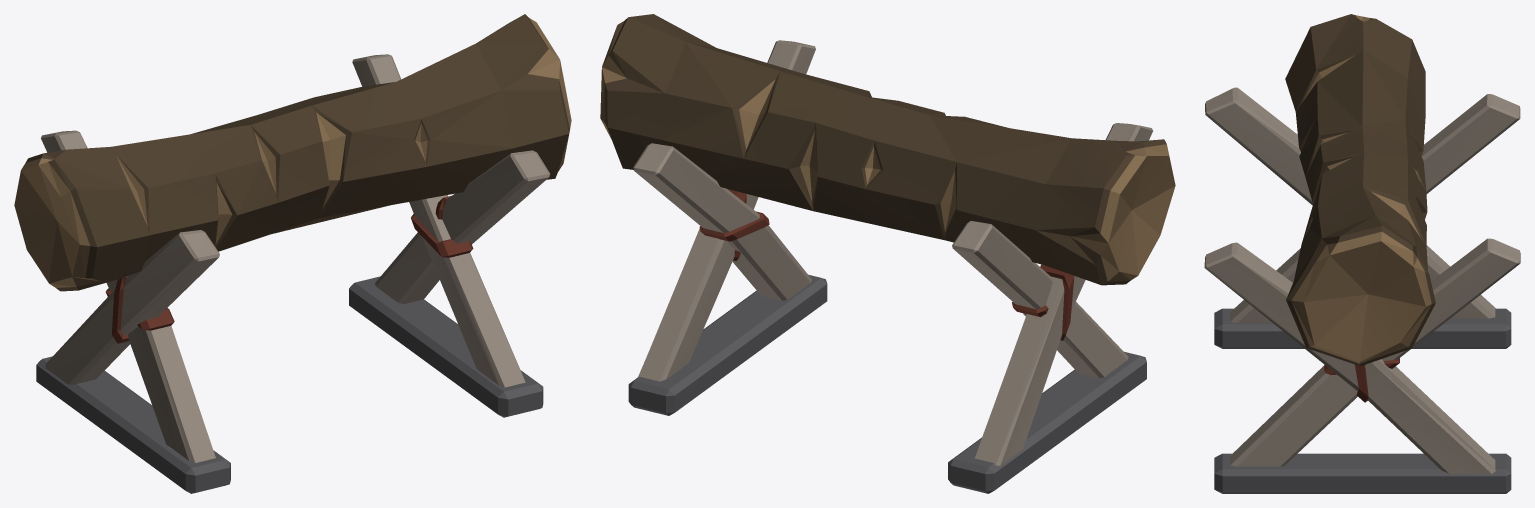
The model's file is Tronco.glb.
3 renders of one model, left to right at view 1: azimuth 30°, elevation 25°; view 2: azimuth 150°, elevation 25°; view 3: azimuth 270°, elevation 25°, orthographic. The views are drawn at different scales.
Parts seen in each view (by area): view 1: SM_Prop_Log_01; view 2: SM_Prop_Log_01; view 3: SM_Prop_Log_01.
Boxes of the visible parts, x1,y1,x2,y2 form: SM_Prop_Log_01: (14, 14, 571, 493); SM_Prop_Log_01: (600, 14, 1175, 493); SM_Prop_Log_01: (1204, 14, 1520, 493).
Size of the model in its own units: 2.13 by 1.27 by 1.21.
1 material, 1 textured.
